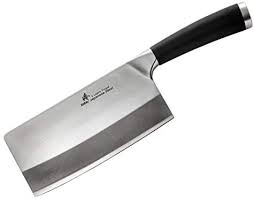knife: (3, 1, 254, 199)
